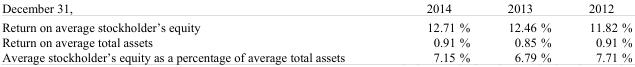table: (1, 0, 631, 63)
table column: (1, 0, 384, 63), (384, 0, 488, 63), (488, 0, 569, 63), (569, 0, 631, 63)
table column header: (1, 0, 631, 17)
table row: (1, 0, 631, 17), (1, 17, 631, 33), (1, 33, 631, 49), (1, 49, 631, 63)
